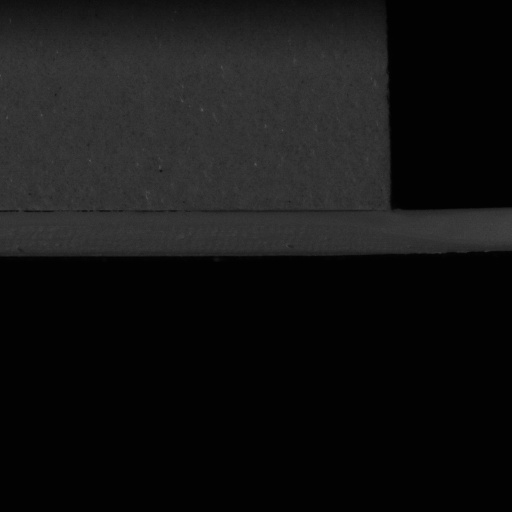changdai: (378, 204, 511, 259)
